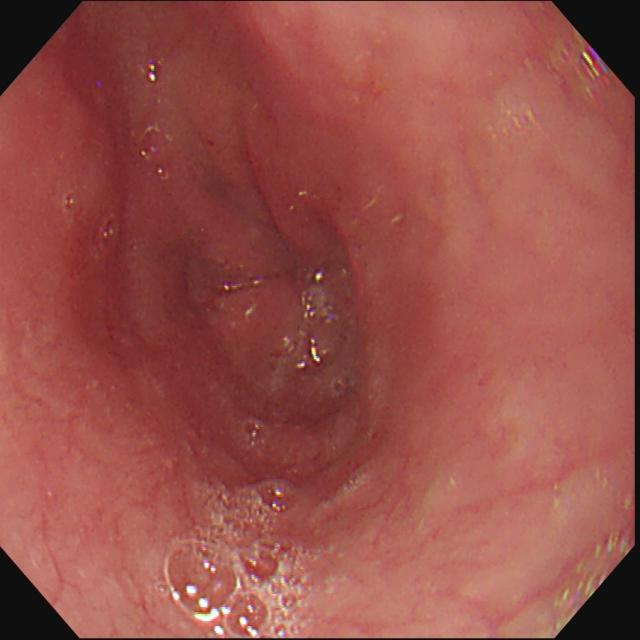I: (223, 212, 358, 373)
T: (157, 479, 314, 638)
U: (578, 43, 610, 85), (307, 335, 325, 367), (148, 62, 159, 84)
